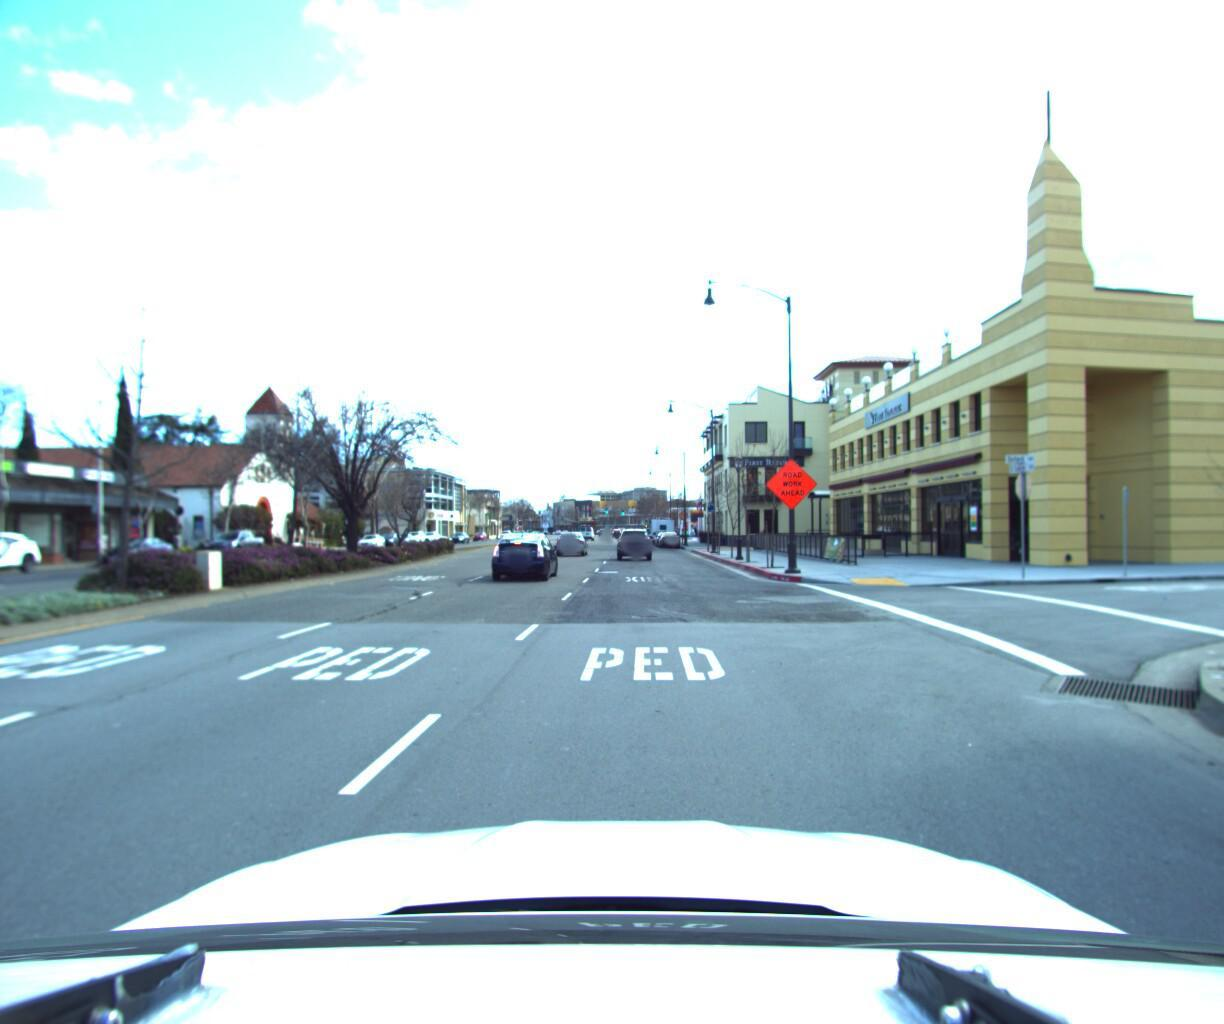car: (483, 527, 558, 580), (199, 528, 270, 558), (606, 525, 642, 558), (553, 527, 585, 553), (354, 530, 388, 547), (657, 527, 682, 544)
other_vehicle: (650, 513, 676, 542)
